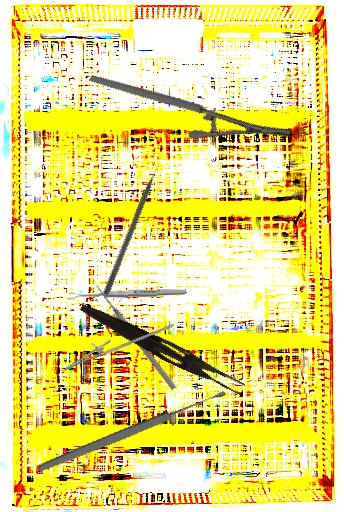Dressing Forceps: (75, 301, 249, 396)
Needle Holder: (88, 17, 293, 193), (59, 303, 175, 384)
Pusher: (93, 283, 178, 391), (102, 155, 166, 297)
Surgical Spoon: (37, 387, 228, 475), (69, 287, 187, 300)
